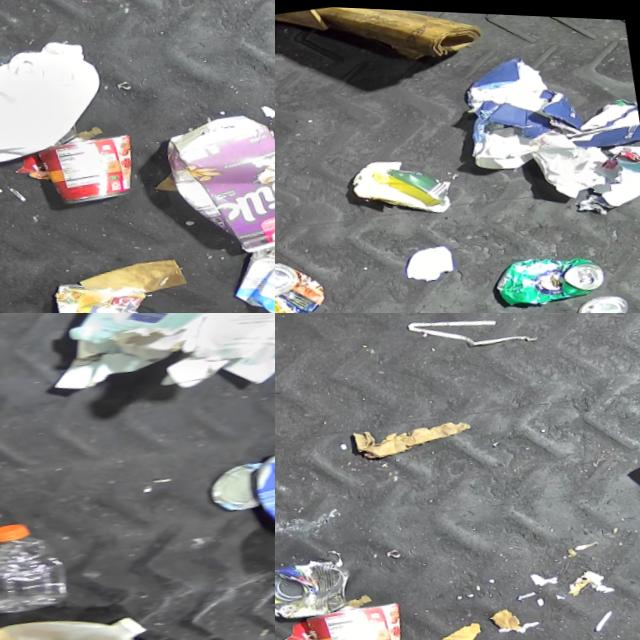can: (37, 127, 144, 210), (492, 241, 609, 309), (275, 550, 359, 624), (305, 594, 413, 640), (52, 267, 158, 313), (275, 251, 330, 313), (576, 286, 631, 313)
milk_jug: (0, 28, 114, 175), (0, 588, 156, 640)
non_white_jug: (156, 97, 275, 263)
plastic_bottle: (0, 506, 82, 628)
